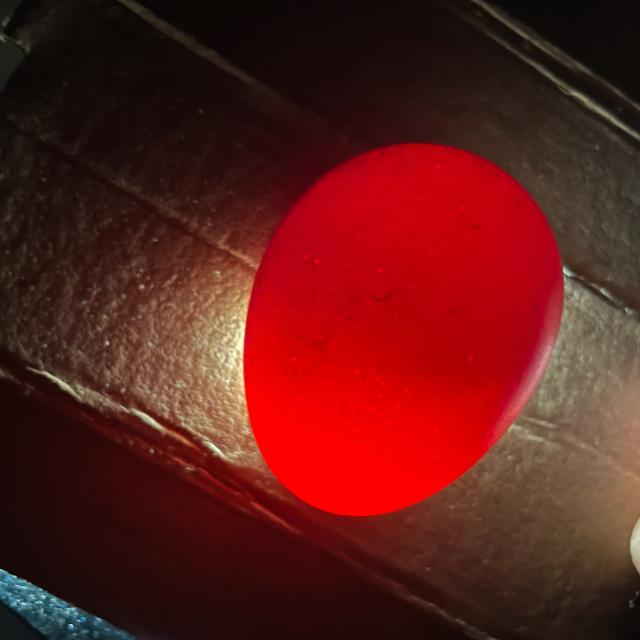fertile: (244, 144, 564, 516)
